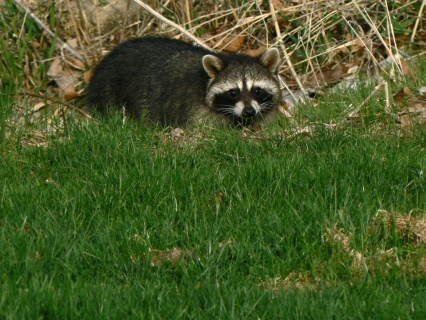Raccoon: (87, 34, 283, 133)
